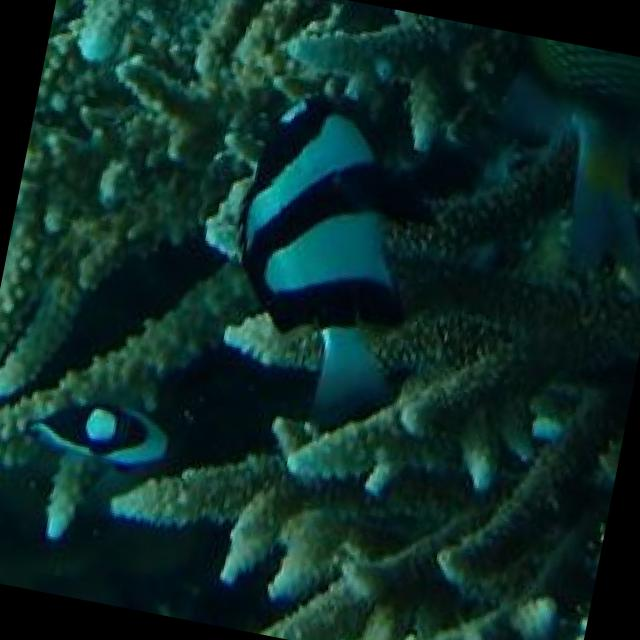ThreeStripedDamselfish: (206, 77, 448, 425)
